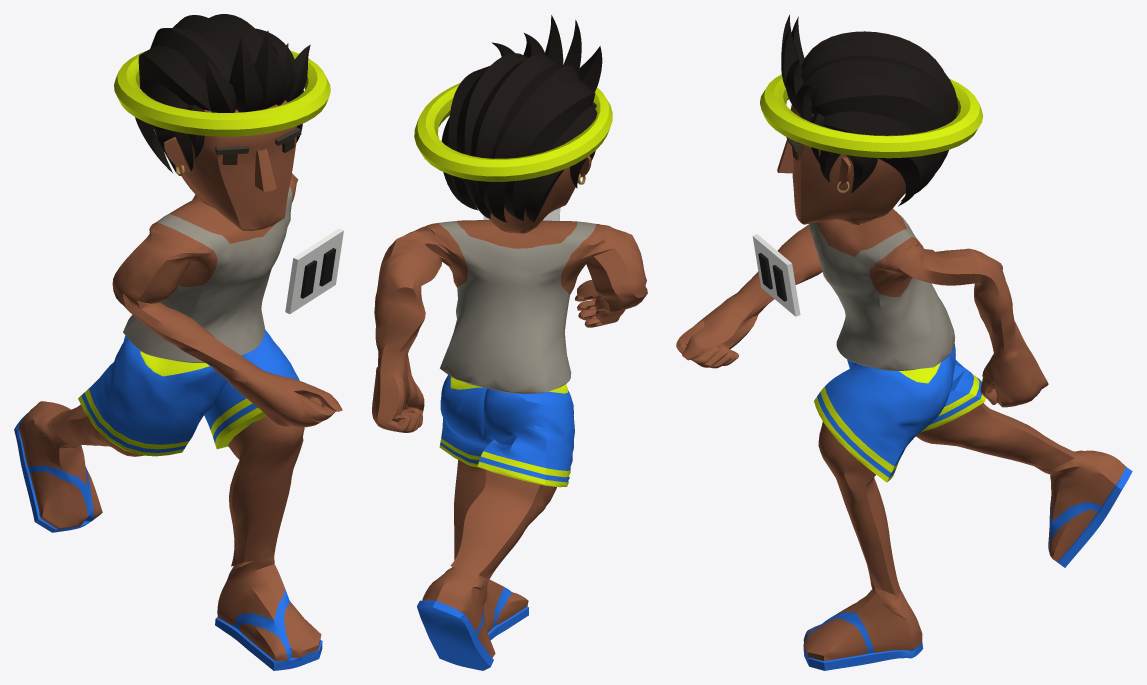
Rendered from av-corredor-rua.glb.
3 views of the same model, side by side, from view 1: azimuth 30°, elevation 25°; view 2: azimuth 150°, elevation 25°; view 3: azimuth 270°, elevation 25° (orthographic). The views are drawn at different scales.
Visible parts, largest first — view 1: Ad_faixa_cabeca_0_0; view 2: Ad_faixa_cabeca_0_0; view 3: Ad_faixa_cabeca_0_0.
Part boxes in pixels (x1=…): Ad_faixa_cabeca_0_0: x1=14, y1=14, x2=343, y2=670; Ad_faixa_cabeca_0_0: x1=372, y1=15, x2=647, y2=670; Ad_faixa_cabeca_0_0: x1=676, y1=14, x2=1132, y2=670.
Size of the model in its own units: 0.5216 by 1.48 by 0.9961.
1 material, 1 textured.
